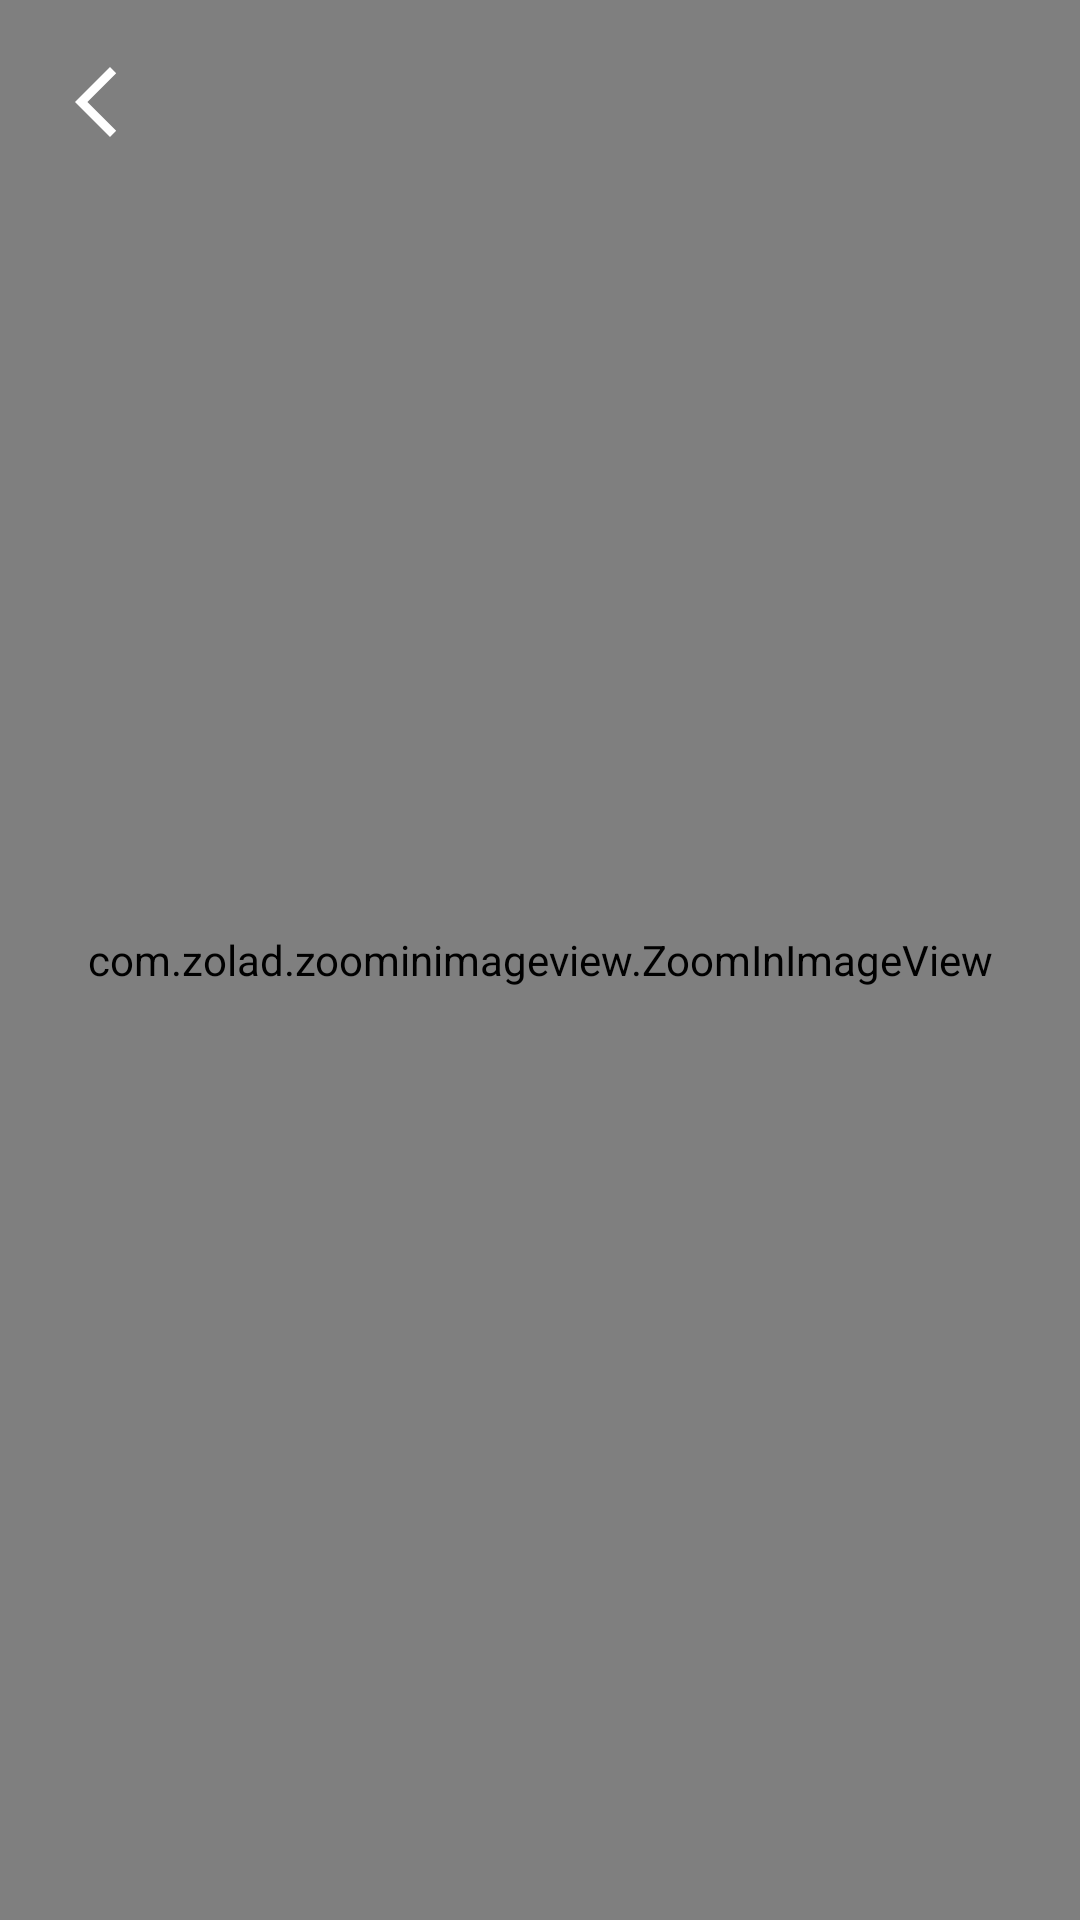

Locate icon controls on the screen. Image size 1080w x 1920h, boxes as (x1, y1, x2, y2).
arrow back: (75, 67, 116, 137)
